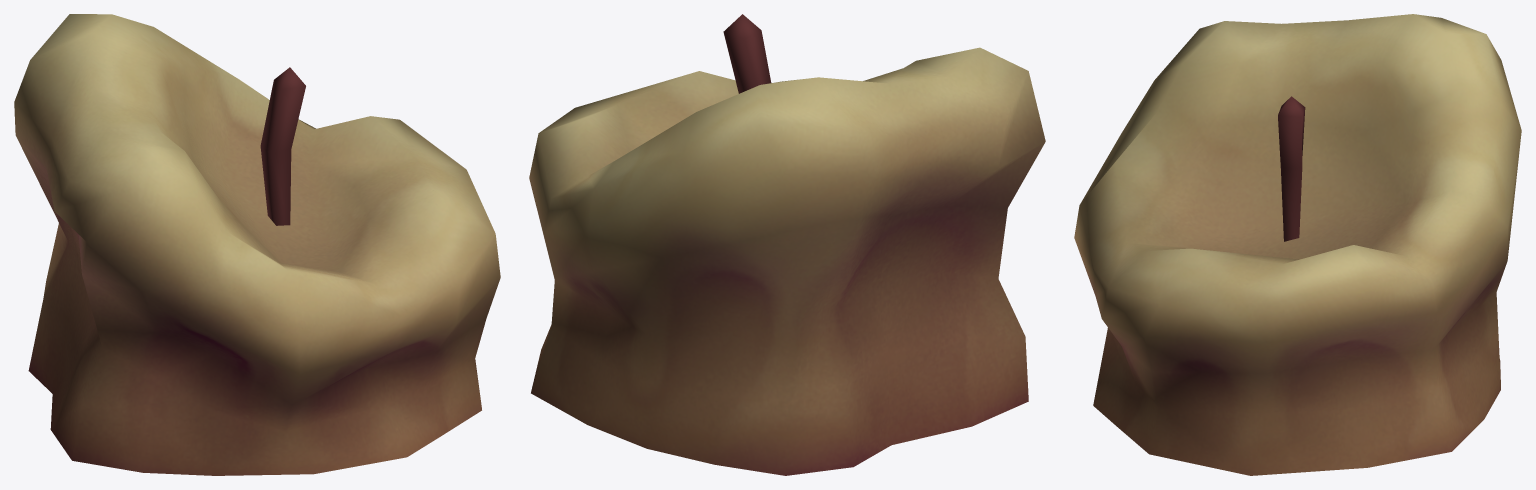
File: SM_FW01_Candle_A_02.fbx
The picture shows the model from 3 angles, left to right: view 1: azimuth 30°, elevation 25°; view 2: azimuth 150°, elevation 25°; view 3: azimuth 270°, elevation 25°; orthographic projection. The views are drawn at different scales.
Parts seen in each view (by area): view 1: SM_FW01_Candle_A_02_LOD0; view 2: SM_FW01_Candle_A_02_LOD0; view 3: SM_FW01_Candle_A_02_LOD0.
Boxes of the visible parts, x1,y1,x2,y2 form: SM_FW01_Candle_A_02_LOD0: (14,14,500,475); SM_FW01_Candle_A_02_LOD0: (529,14,1045,475); SM_FW01_Candle_A_02_LOD0: (1074,14,1521,475).
Size of what is drawn, in the model's own units: 0.2039 by 0.1579 by 0.1982.
